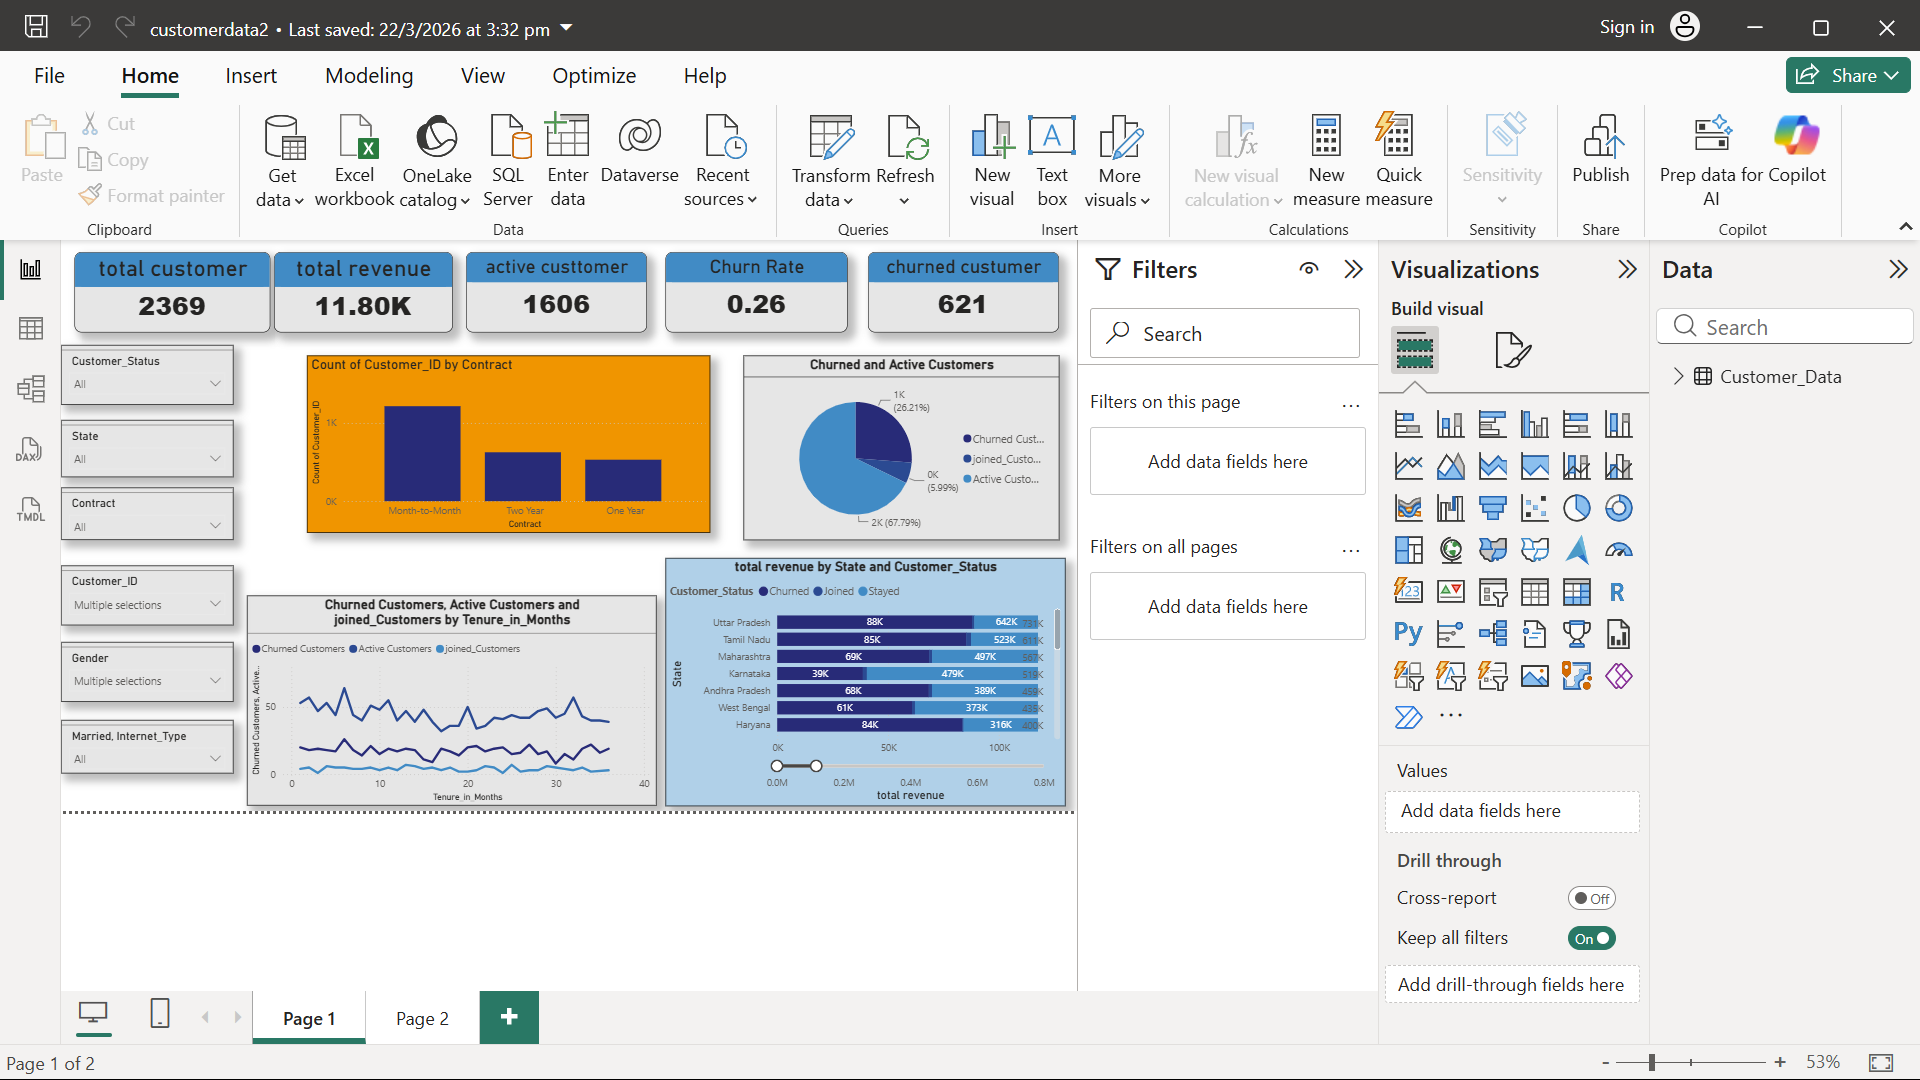

This screenshot's page, from the dashboard's own definition file:
{"tool":"powerbi","page":{"name":"Page 1","canvas":[1280,720],"ordinal":0},"visuals":[{"type":"card","title":"total customer","fields":{"Values":["Customer_Data.total_customer"]},"box":[16.8,15.3,246.5,101.1],"z":0},{"type":"card","title":"total revenue","fields":{"Values":["Max(Customer_Data.Total_Revenue)"]},"box":[267.9,15.3,225.1,101.1],"z":1000},{"type":"card","title":"Churn Rate","fields":{"Values":["Customer_Data.Churn %"]},"box":[762.5,15.3,229.7,101.1],"z":2000},{"type":"card","title":"active custtomer","fields":{"Values":["Customer_Data.Active Customers"]},"box":[509.9,15.3,228.1,101.1],"z":3000},{"type":"card","title":"churned custumer","fields":{"Values":["Customer_Data.Churned Customers"]},"box":[1016.7,15.3,240.4,101.1],"z":4000},{"type":"pieChart","title":"Churned and Active Customers","fields":{"Y":["Customer_Data.Churned Customers","Customer_Data.joined_Customers","Customer_Data.Active Customers"]},"box":[858.9,145.5,398.1,232.7],"z":5000},{"type":"slicer","fields":{"Values":["Customer_Data.Customer_Status"]},"box":[0,131.7,217.4,75],"z":6000},{"type":"slicer","fields":{"Values":["Customer_Data.State"]},"box":[0,226.6,217.4,72],"z":9000},{"type":"lineChart","fields":{"Category":["Customer_Data.Tenure_in_Months"],"Y":["Customer_Data.Churned Customers","Customer_Data.Active Customers","Customer_Data.joined_Customers"]},"box":[234.3,448.6,516,264.9],"z":10000},{"type":"slicer","fields":{"Values":["Customer_Data.Contract"]},"box":[0,312.3,217.4,65.8],"z":11000},{"type":"barChart","fields":{"Category":["Customer_Data.State"],"Y":["Customer_Data.total  revenue"],"Series":["Customer_Data.Customer_Status"]},"box":[762.5,401.1,503.7,312.3],"z":11001},{"type":"clusteredColumnChart","fields":{"Category":["Customer_Data.Contract"],"Y":["CountNonNull(Customer_Data.Customer_ID)"]},"box":[310.8,145.5,508.3,223.5],"z":11002},{"type":"slicer","fields":{"Values":["Customer_Data.Customer_ID"]},"box":[0,410.3,217.4,75],"z":11003},{"type":"slicer","fields":{"Values":["Customer_Data.Gender"]},"box":[0,506.8,217.4,75],"z":11004},{"type":"slicer","fields":{"Values":["Customer_Data.Married","Customer_Data.Internet_Type"]},"box":[0,604.8,217.4,67.4],"z":11005}]}

Visuals, with their boxes on the page's 1280x720 design canvas (x1, y1, x2, y2). These are canvas units, not pixel positions in the 1920x1080 screenshot, which may show the page scaled, cropped or inside an application window:
"total customer" card: (left=17, top=15, right=263, bottom=116)
"total revenue" card: (left=268, top=15, right=493, bottom=116)
"Churn Rate" card: (left=762, top=15, right=992, bottom=116)
"active custtomer" card: (left=510, top=15, right=738, bottom=116)
"churned custumer" card: (left=1017, top=15, right=1257, bottom=116)
"Churned and Active Customers" pieChart: (left=859, top=146, right=1257, bottom=378)
slicer - Customer_Data.Customer_Status: (left=0, top=132, right=217, bottom=207)
slicer - Customer_Data.State: (left=0, top=227, right=217, bottom=299)
lineChart - Customer_Data.Tenure_in_Months x Customer_Data.Churned Customers: (left=234, top=449, right=750, bottom=714)
slicer - Customer_Data.Contract: (left=0, top=312, right=217, bottom=378)
barChart - Customer_Data.State x Customer_Data.total  revenue: (left=762, top=401, right=1266, bottom=713)
clusteredColumnChart - Customer_Data.Contract x CountNonNull(Customer_Data.Customer_ID): (left=311, top=146, right=819, bottom=369)
slicer - Customer_Data.Customer_ID: (left=0, top=410, right=217, bottom=485)
slicer - Customer_Data.Gender: (left=0, top=507, right=217, bottom=582)
slicer - Customer_Data.Married x Customer_Data.Internet_Type: (left=0, top=605, right=217, bottom=672)
